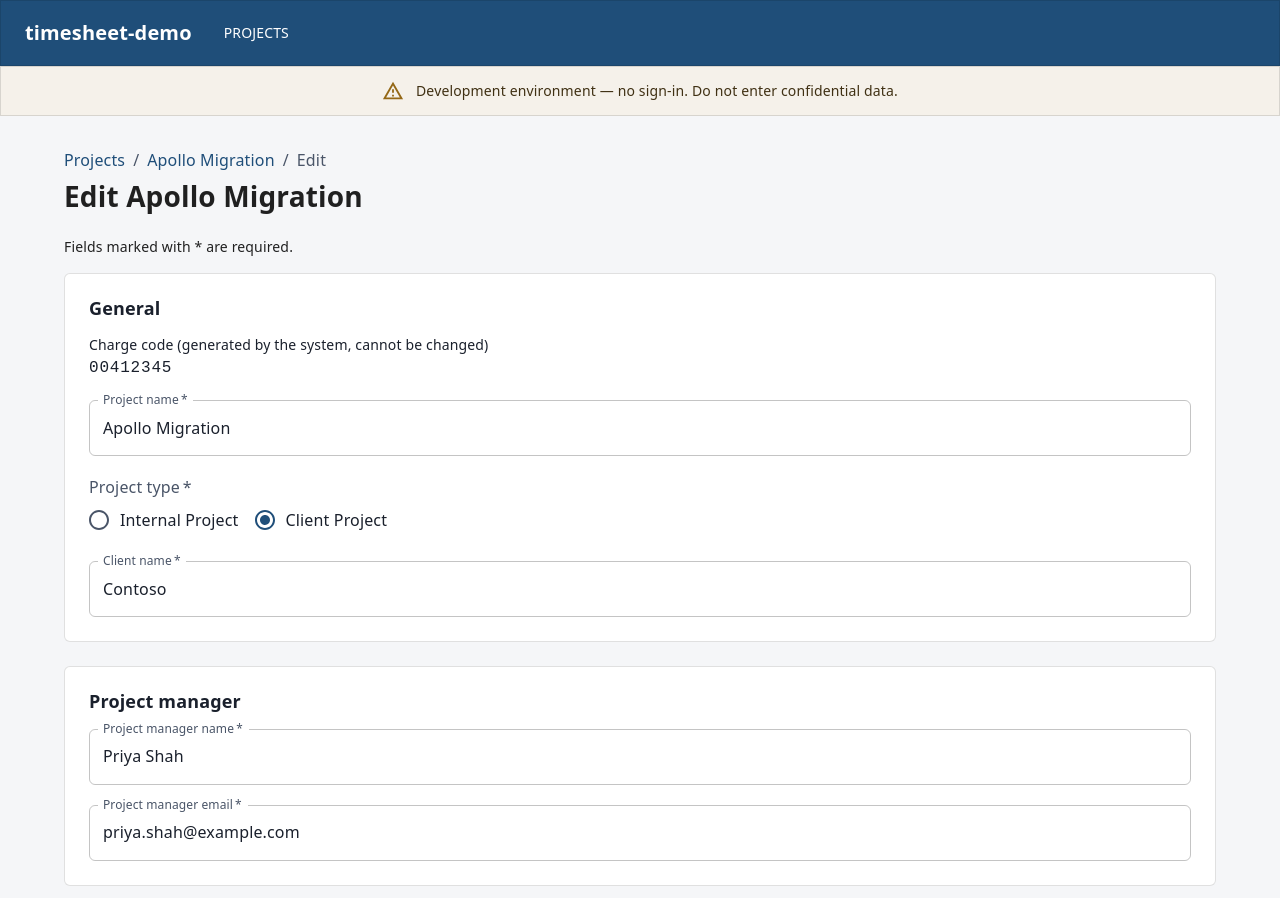
Test: ProjectEditPage › offers a Reload after a 412 conflict and refetches the project
This screenshot has width=1280, height=898.
Expected: the heading "Edit Apollo Migration" is shown, top-left (64, 180), bottom-right (363, 213)
Type " X" into the field labelled "Project name *" at (640, 428), box top-left (89, 400), bottom-right (1191, 456)
(page scrolled)
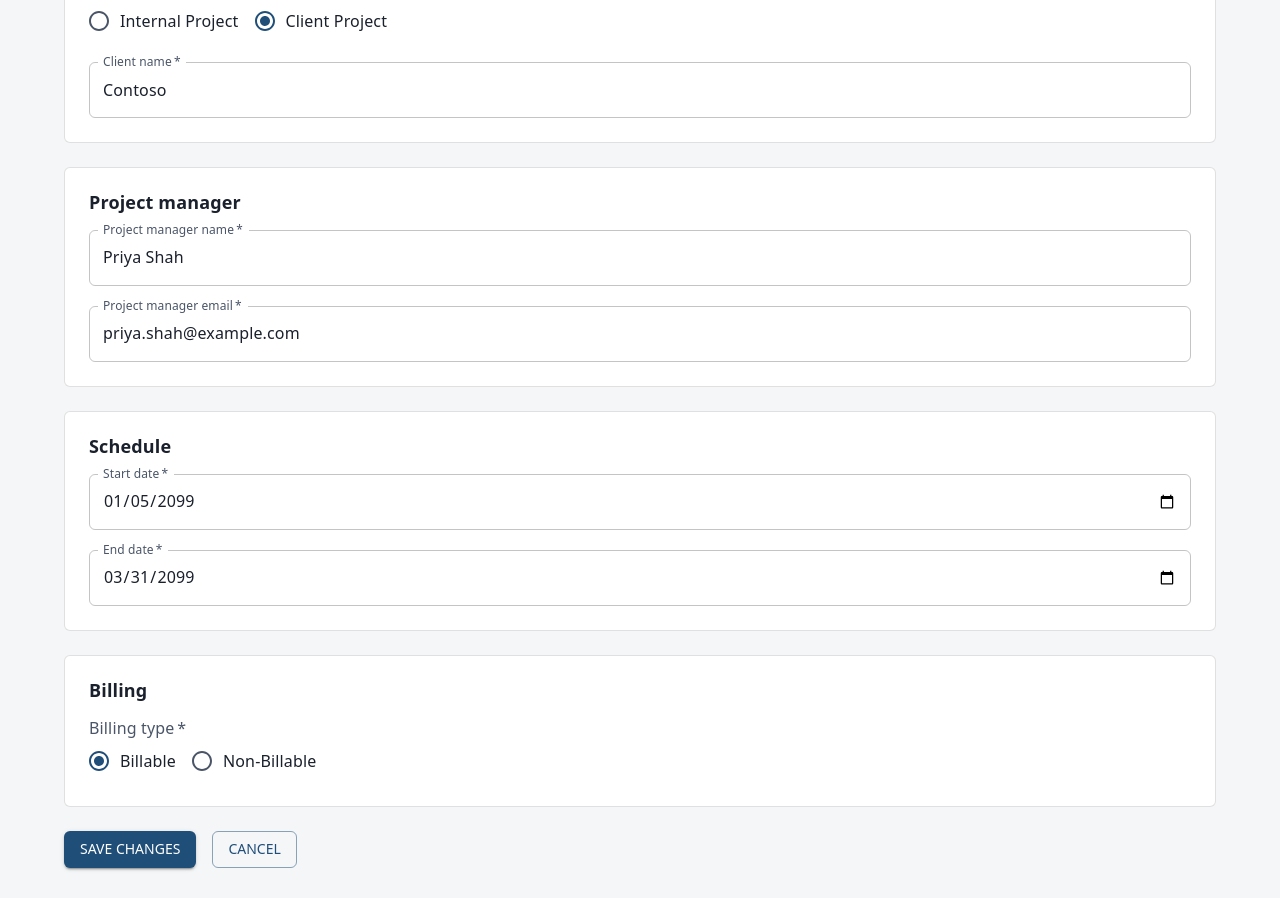
Click the button "Save changes" at (130, 849), box top-left (64, 831), bottom-right (196, 868)
(page scrolled)
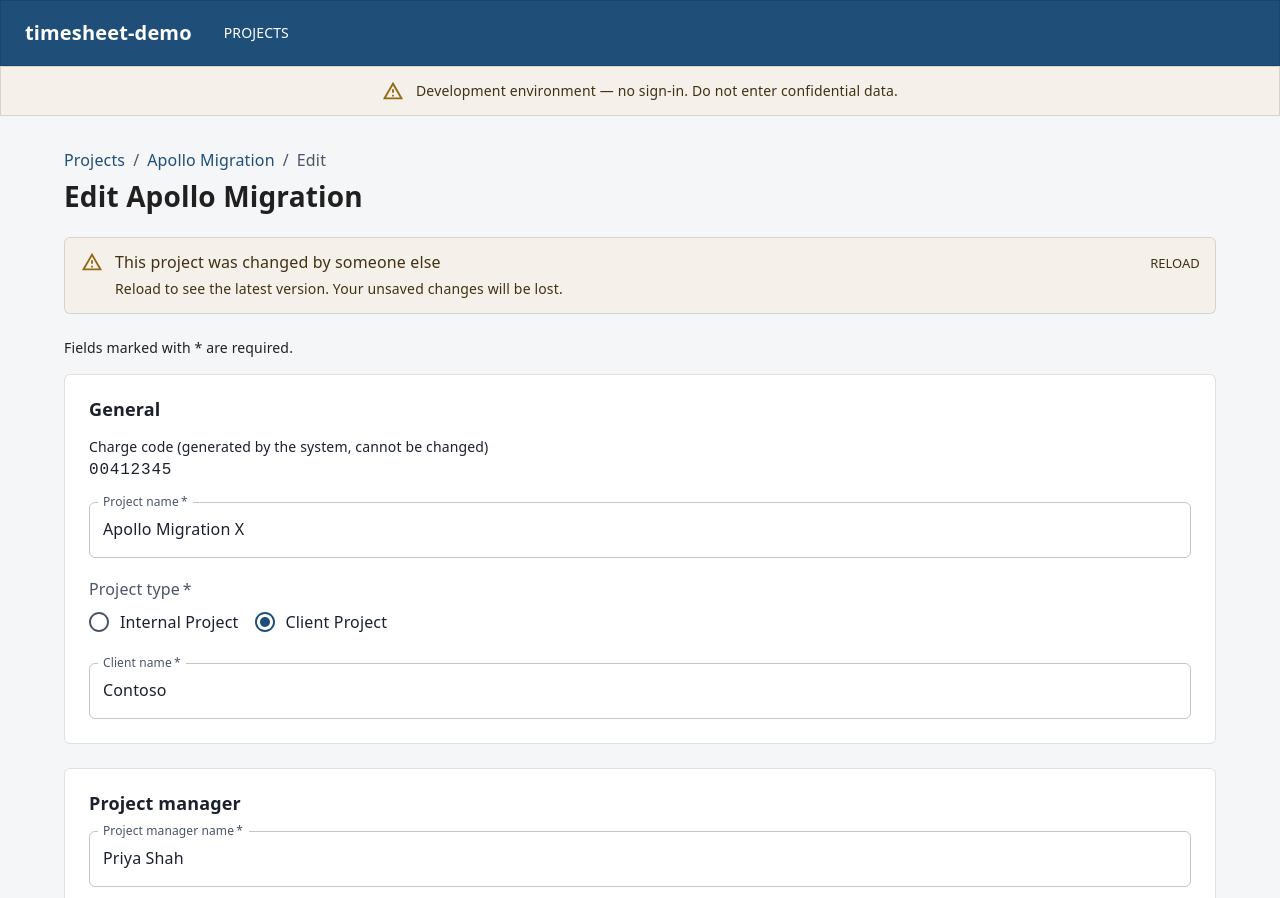
Expected: the text "This project was changed by someone else" is shown, top-left (115, 251), bottom-right (441, 273)
Click the button "Reload" at (1175, 263), box top-left (1143, 248), bottom-right (1207, 278)
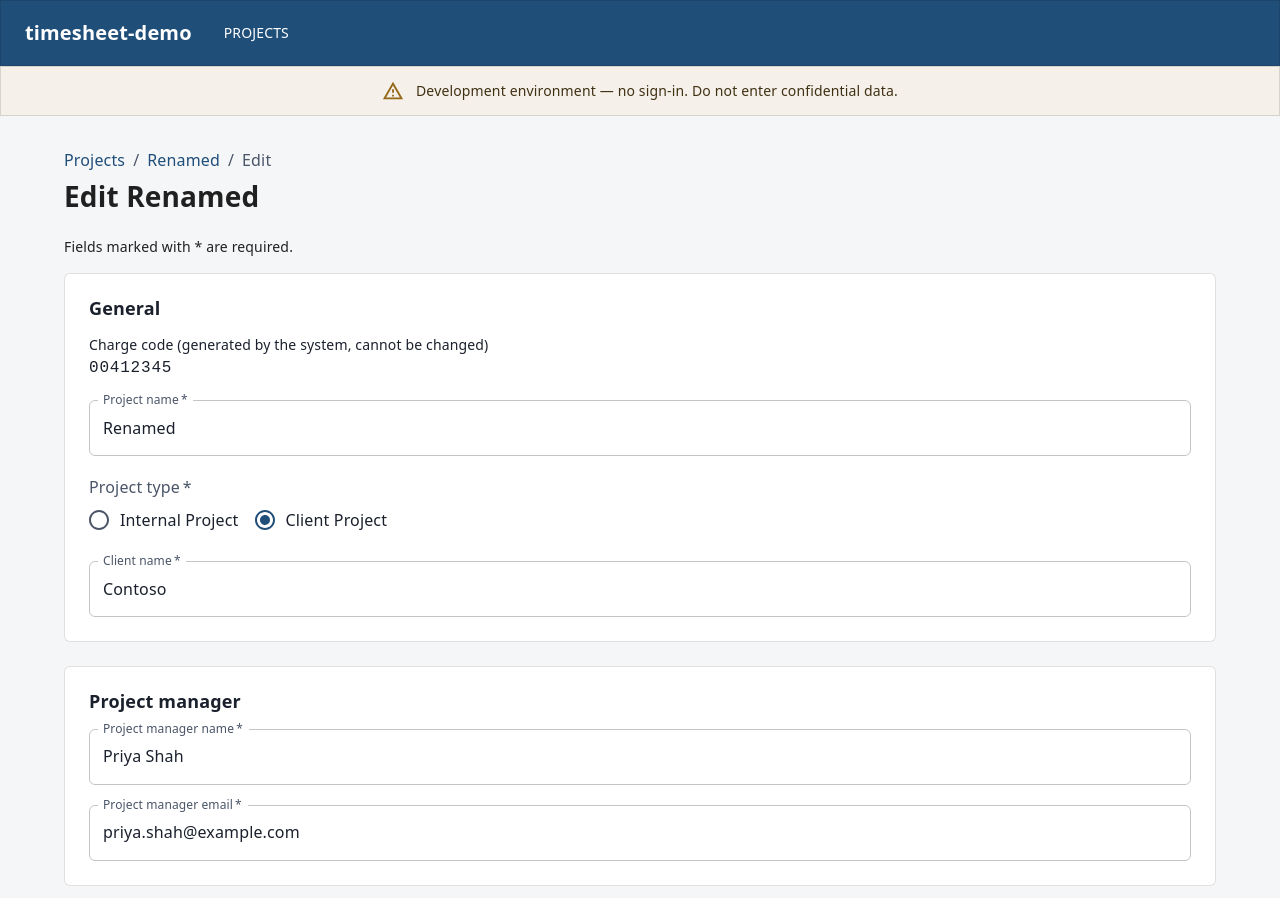
Expected: the heading "Edit Renamed" is shown, top-left (64, 180), bottom-right (259, 213)
Expected: the field labelled "Project name *" holds "Renamed", top-left (89, 400), bottom-right (1191, 456)
